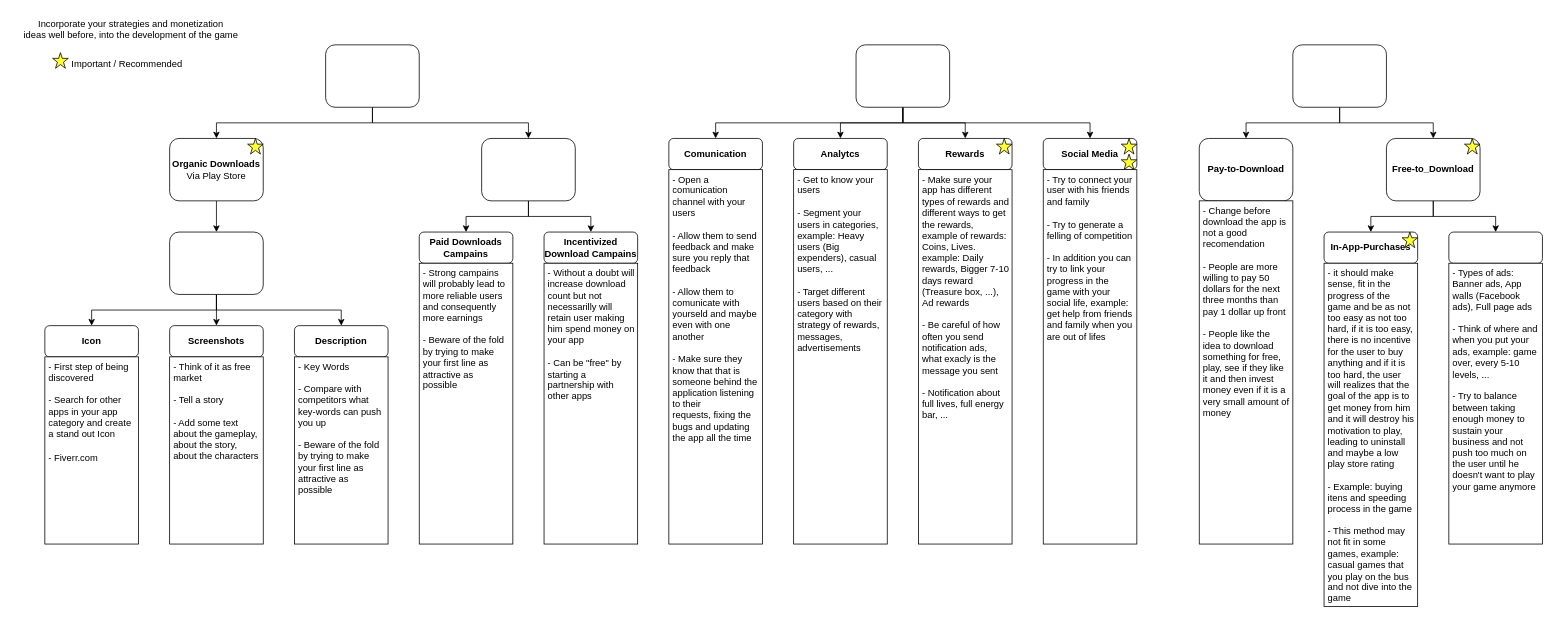
Some shapes in this 1556 by 620 pixel diagram are drawn without their labels. The centre of each missing label's shape, as x and y in pixels:
ASO Application Store Optimization: the point at 216,262
Distribuition Get Users: the point at 372,75
In-App-Ads: the point at 1495,247
Monetization Make Money: the point at 1339,75
Paid Downloads Via Campains, Ads, ...: the point at 528,169
User Retention Keep Users: the point at 902,75
